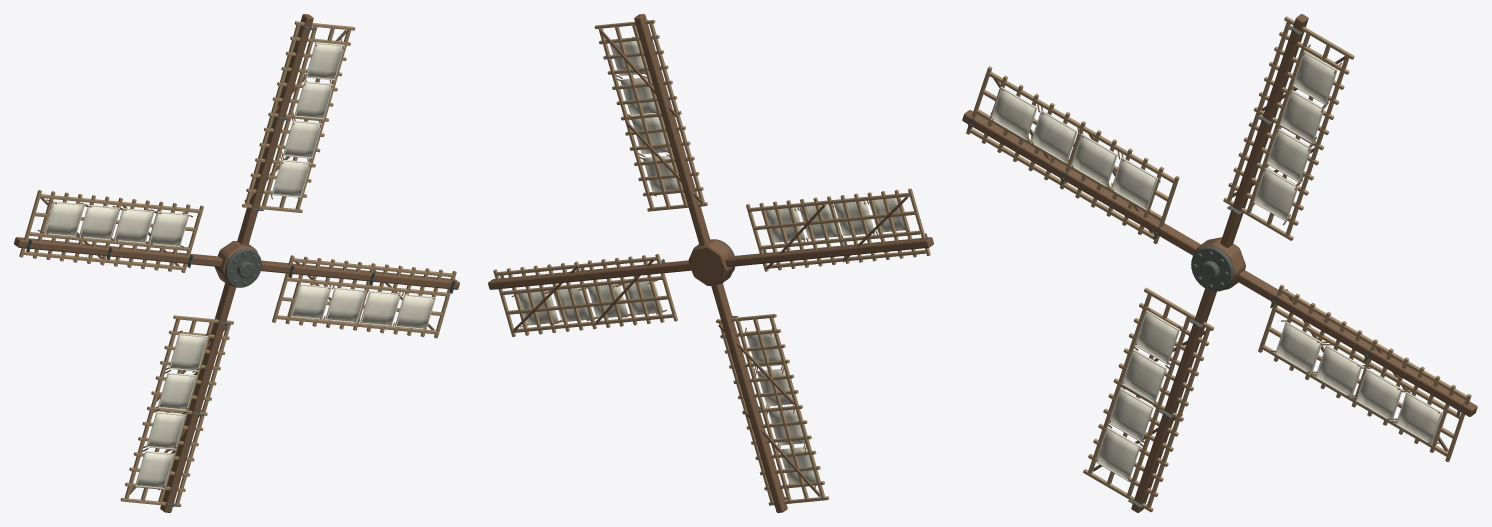
The model's file is SM_MillRotor.fbx.
The picture shows the model from 3 angles, left to right: view 1: azimuth 30°, elevation 25°; view 2: azimuth 150°, elevation 25°; view 3: azimuth 330°, elevation 25°; orthographic projection. The views are drawn at different scales.
Parts seen in each view (by area): view 1: SM_MillRotor; view 2: SM_MillRotor; view 3: SM_MillRotor.
Part boxes in pixels (x1,y1,x2,y2): SM_MillRotor: (14, 14, 459, 512); SM_MillRotor: (488, 14, 933, 512); SM_MillRotor: (962, 14, 1477, 512).
Bounding box in the file's own units: 1135 × 63 × 1135.
